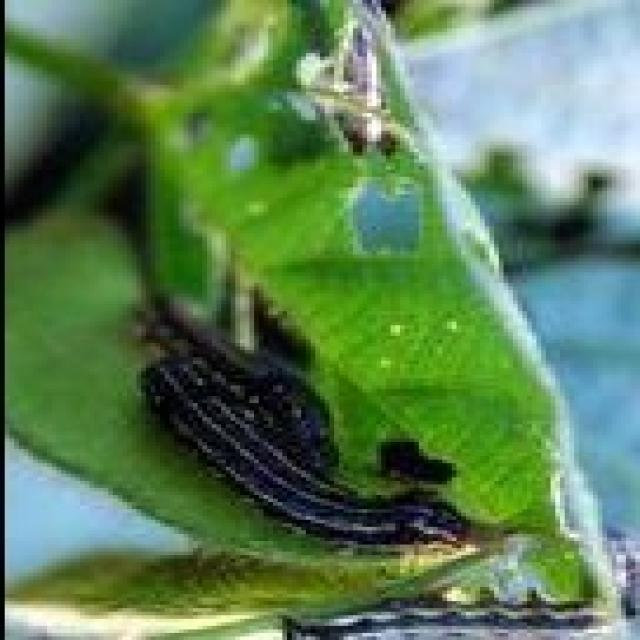army worm: (135, 360, 479, 547), (281, 598, 605, 640)
